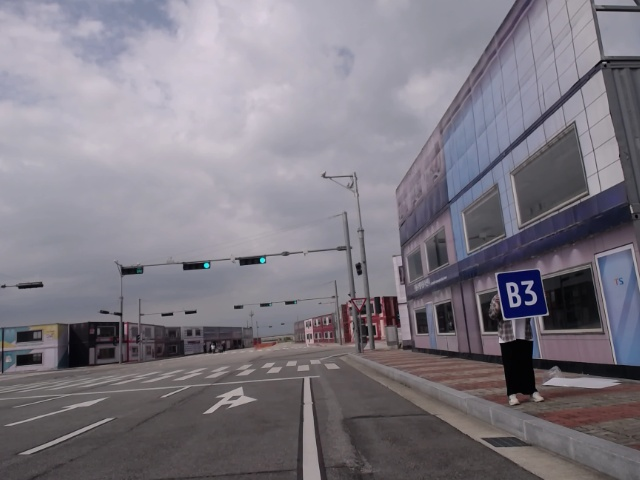delivery_b3: (495, 268, 551, 320)
straight_green_4: (234, 253, 269, 267), (181, 259, 212, 272), (282, 299, 299, 306), (258, 302, 274, 308)
